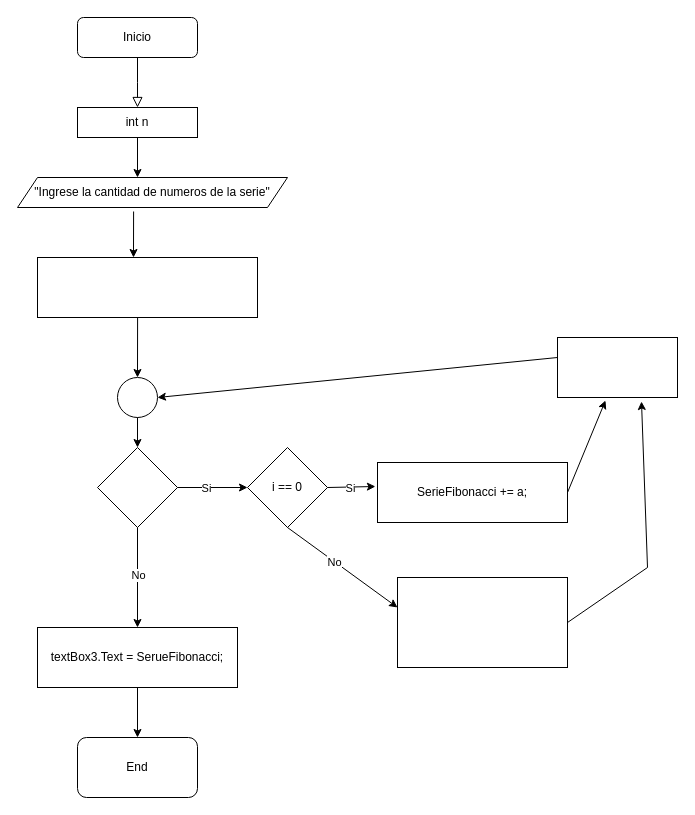
Some shapes in this 695 by 815 pixel diagram are drawn without their labels. The centre of each missing label's shape, as x and y in pixels:
i ++;: point 617,367
i < n: point 137,487
int a = 0; int b = 1; string SerieFibonacci = "Serie";: point 147,287
SerieFibonacci += ", " + b; int temp = a + b; a = b; b = temp;: point 482,622
